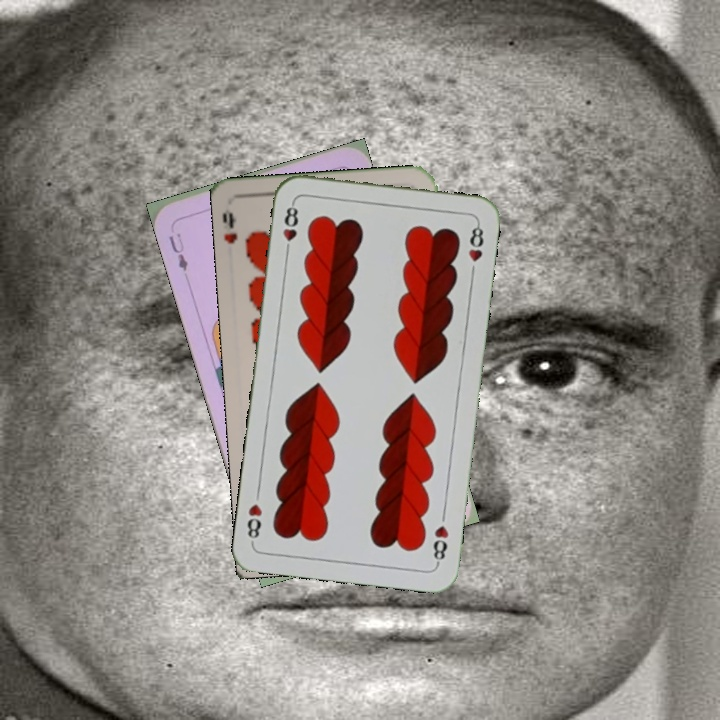EU: (164, 228, 191, 274)
H8: (279, 198, 301, 257), (429, 521, 451, 567)
H9: (219, 208, 240, 246)
